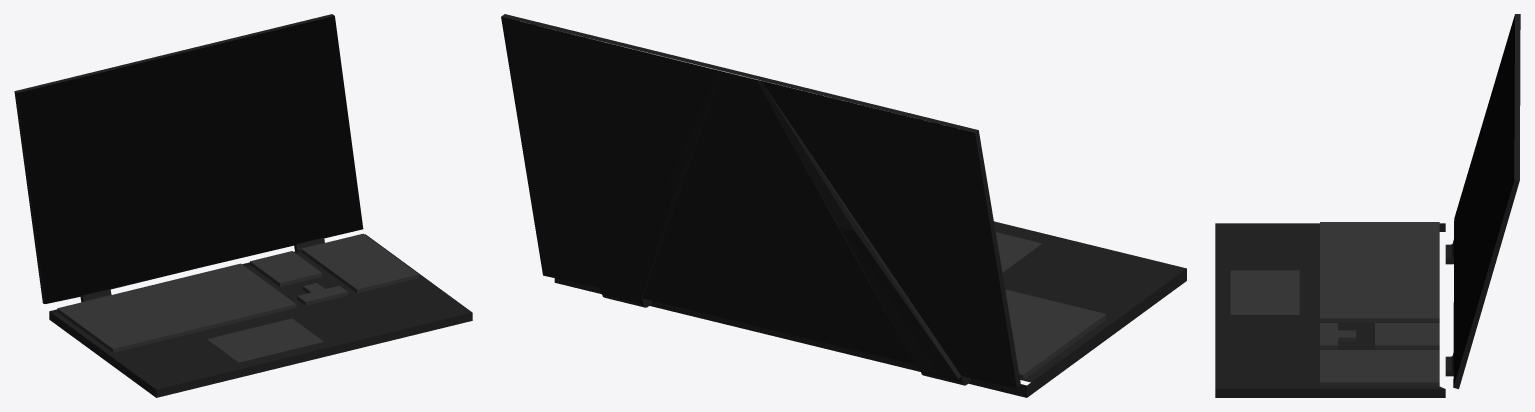
The model's file is laptop.glb.
The picture shows the model from 3 angles, left to right: view 1: azimuth 30°, elevation 25°; view 2: azimuth 150°, elevation 25°; view 3: azimuth 270°, elevation 25°; orthographic projection. The views are drawn at different scales.
Parts seen in each view (by area): view 1: Cube; view 2: Cube; view 3: Cube.
Part boxes in pixels (x1,y1,x2,y2): Cube: (14, 14, 472, 397); Cube: (501, 14, 1186, 397); Cube: (1215, 14, 1520, 397).
Bounding box in the file's own units: 0.9124 × 0.5567 × 0.7059.
3 materials, 3 textured.
